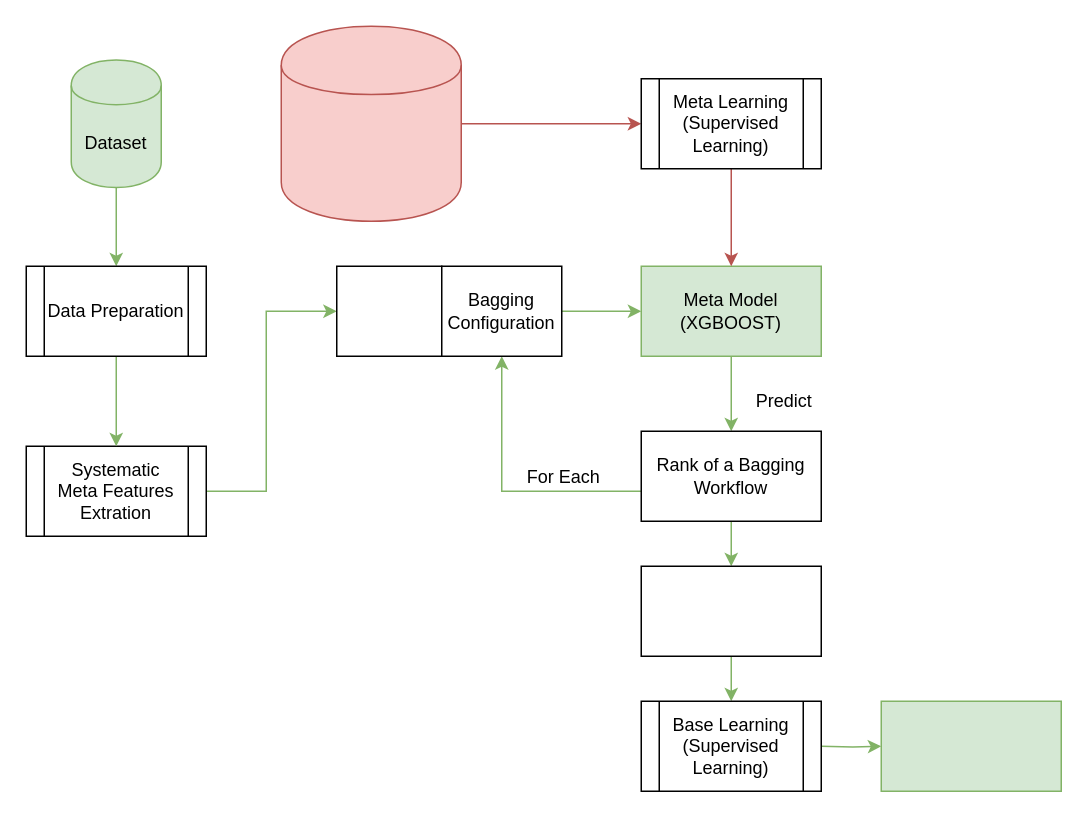
This 1088x818 diagram has some shape labels left out. Here are the shapes that lost their labels. From the top down, the centre of each, then its label:
the point at 370,123: Meta Data
the point at 388,310: Meta Features
the point at 730,610: Best Bagging Workflow Configuration
the point at 970,745: Recommended Bagging Workflow
